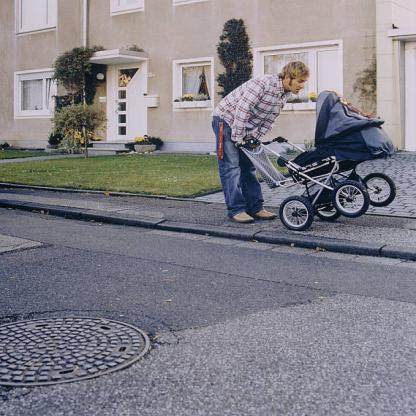manholes: (1, 303, 172, 389)
